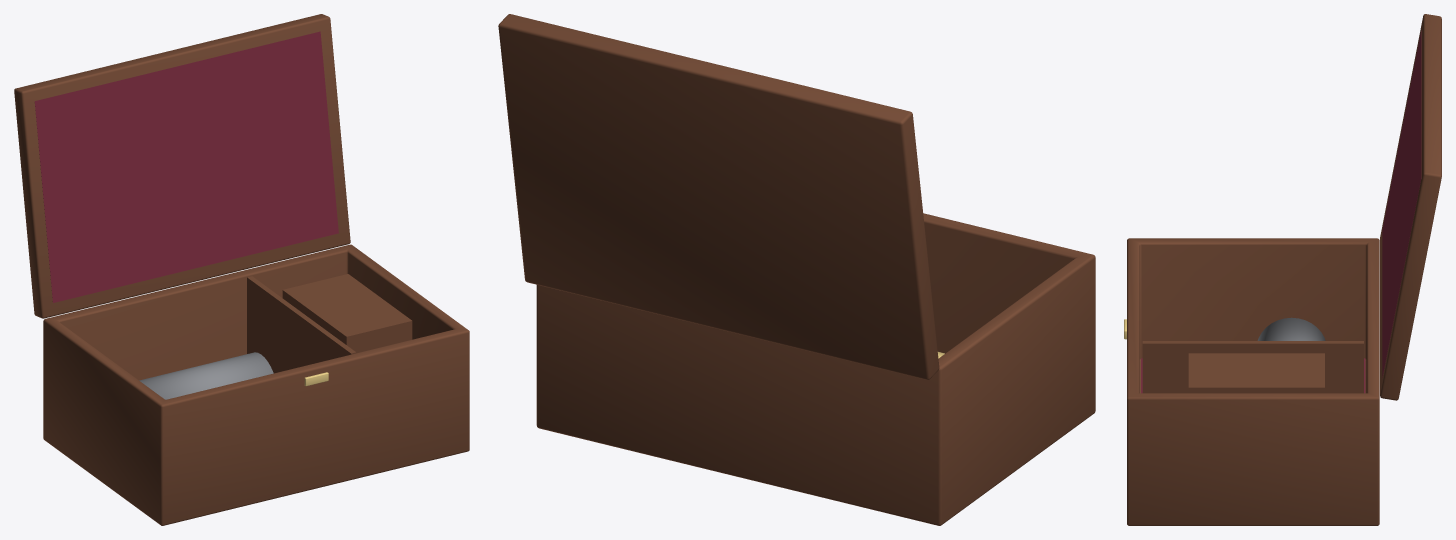
File: MusicBox.fbx
3 views of the same model, side by side, from view 1: azimuth 30°, elevation 25°; view 2: azimuth 150°, elevation 25°; view 3: azimuth 270°, elevation 25° (orthographic). The views are drawn at different scales.
Visible parts, largest first — view 1: Box_Body, Lid_Velvet, Lid_Wood, 큐브, Box_Divider, Mov_Cylinder; view 2: Lid_Wood, Box_Body; view 3: Box_Body, Lid_Wood, Box_Divider, Lid_Velvet, 큐브, Mov_Cylinder.
Part boxes in pixels (<box>): Box_Body: <box>43,244,469,525</box>; Lid_Velvet: <box>34,31,338,302</box>; Lid_Wood: <box>14,14,350,318</box>; 큐브: <box>282,274,412,353</box>; Box_Divider: <box>247,276,356,373</box>; Mov_Cylinder: <box>139,352,273,399</box>; Lid_Wood: <box>498,14,939,379</box>; Box_Body: <box>536,213,1095,525</box>; Box_Body: <box>1127,238,1379,525</box>; Lid_Wood: <box>1380,14,1441,400</box>; Box_Divider: <box>1142,341,1363,393</box>; Lid_Velvet: <box>1382,31,1421,377</box>; 큐브: <box>1188,353,1324,393</box>; Mov_Cylinder: <box>1257,317,1325,340</box>.
Bounding box in the file's own units: 240 × 247 × 201.
